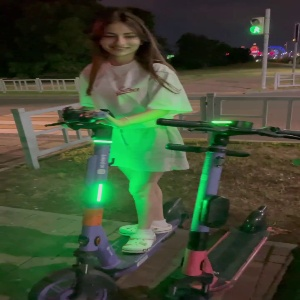human on a scooter: (26, 10, 193, 300)
